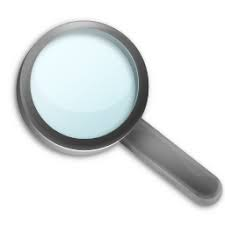searchIcon: (16, 19, 222, 206)
